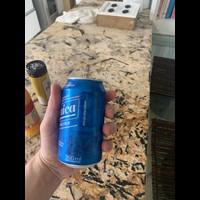blackprincess: (30, 58, 49, 105)
tonica: (55, 76, 108, 167)
